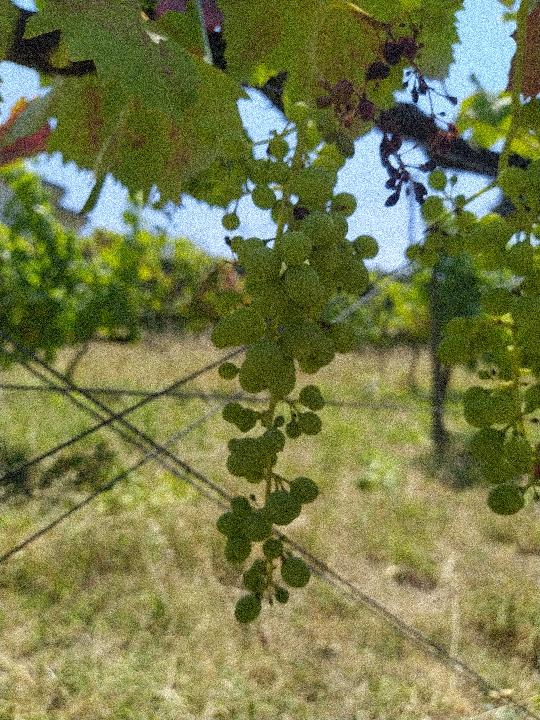grape: (200, 94, 388, 627), (315, 7, 468, 220)
